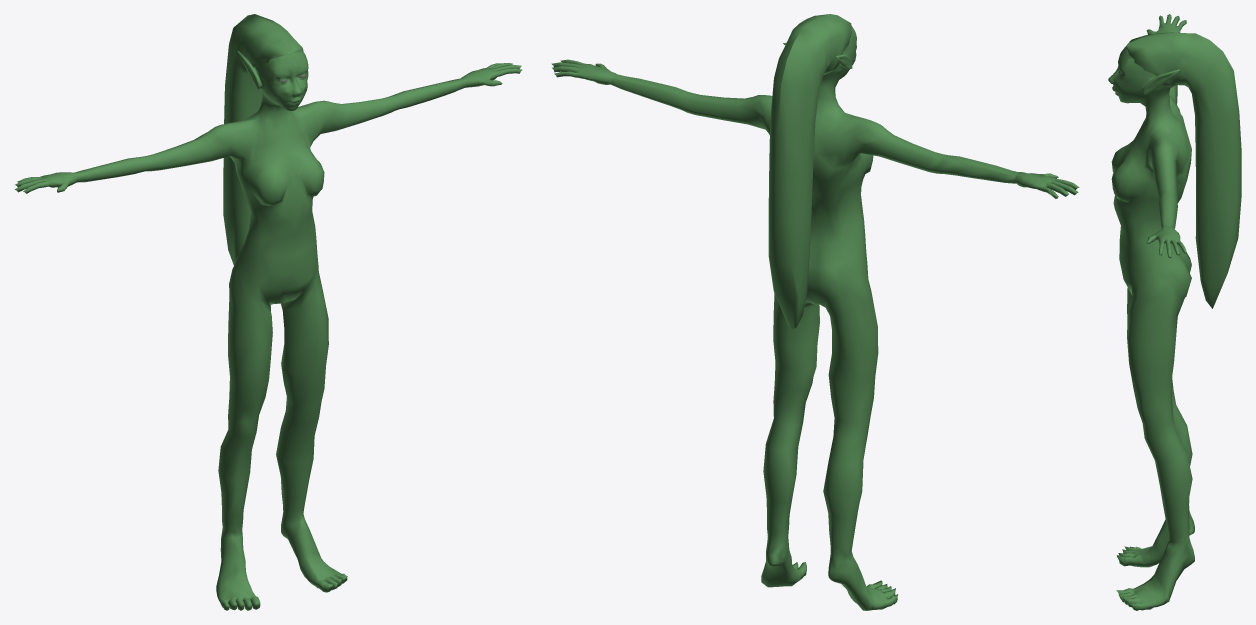
File: shaman_UV_body.obj
3 renders of one model, left to right at view 1: azimuth 30°, elevation 25°; view 2: azimuth 150°, elevation 25°; view 3: azimuth 270°, elevation 25°, orthographic. The views are drawn at different scales.
Parts seen in each view (by area): view 1: shaman_UV_body:Mesh; view 2: shaman_UV_body:Mesh; view 3: shaman_UV_body:Mesh.
Boxes of the visible parts, <box> form: shaman_UV_body:Mesh: <box>15,14,522,610</box>; shaman_UV_body:Mesh: <box>551,14,1079,610</box>; shaman_UV_body:Mesh: <box>1108,14,1241,610</box>.
Bounding box in the file's own units: 7.45 × 7.89 × 1.73.
